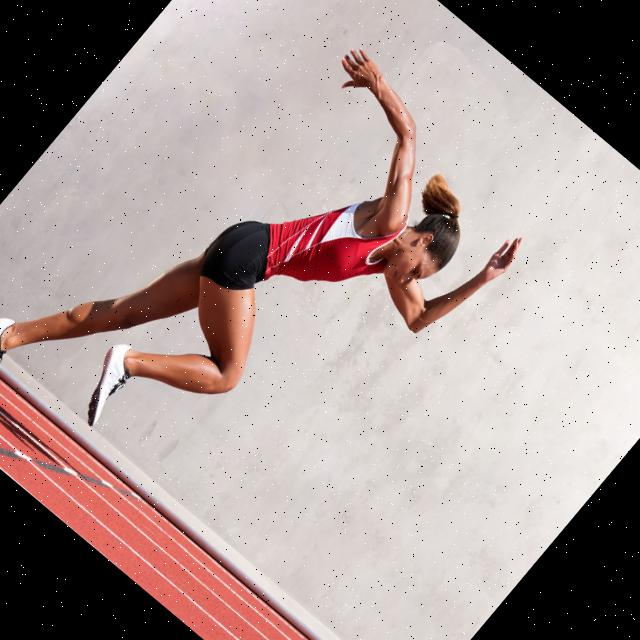Person: (0, 0, 557, 598)
